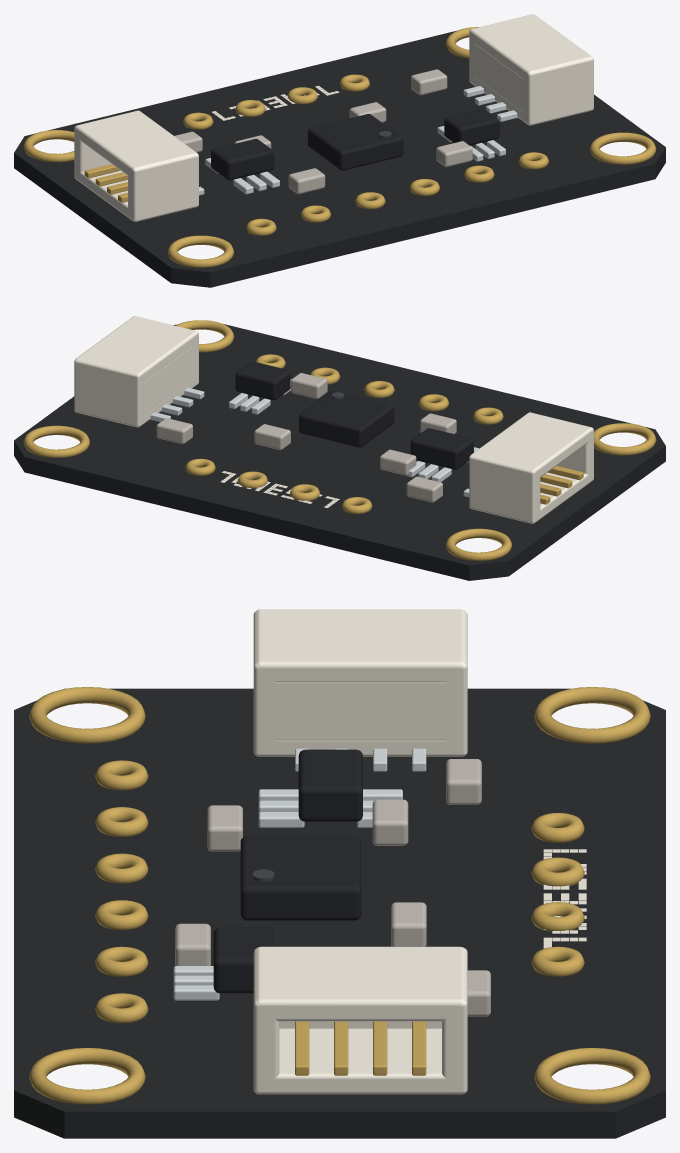
The model's file is sensors-17.glb.
3 views of the same model, one above another, from view 1: azimuth 30°, elevation 25°; view 2: azimuth 150°, elevation 25°; view 3: azimuth 270°, elevation 25° (orthographic). The views are drawn at different scales.
Visible parts, largest first — view 1: pcb, right-socket, left-socket, electronics, pads, mounts, chip; view 2: pcb, right-socket, left-socket, electronics, mounts, chip, pads; view 3: pcb, right-socket, left-socket, electronics, mounts, pads, chip.
Boxes of the visible parts, <box> form: pcb: <box>14,31,665,287</box>; right-socket: <box>463,14,593,125</box>; left-socket: <box>74,110,204,221</box>; electronics: <box>174,69,505,194</box>; pads: <box>183,74,548,235</box>; mounts: <box>23,27,656,267</box>; chip: <box>308,114,403,170</box>; pcb: <box>14,324,665,580</box>; right-socket: <box>74,316,204,427</box>; left-socket: <box>463,412,593,523</box>; electronics: <box>156,361,478,502</box>; mounts: <box>23,320,656,560</box>; chip: <box>299,390,394,447</box>; pads: <box>185,354,503,513</box>; pcb: <box>14,688,665,1138</box>; right-socket: <box>253,946,467,1094</box>; left-socket: <box>253,609,467,771</box>; electronics: <box>173,749,490,1016</box>; mounts: <box>29,687,650,1104</box>; pads: <box>95,760,584,1023</box>; chip: <box>240,836,361,920</box>.
Bounding box in the file's own units: 2.18 × 0.2955 × 1.42.
